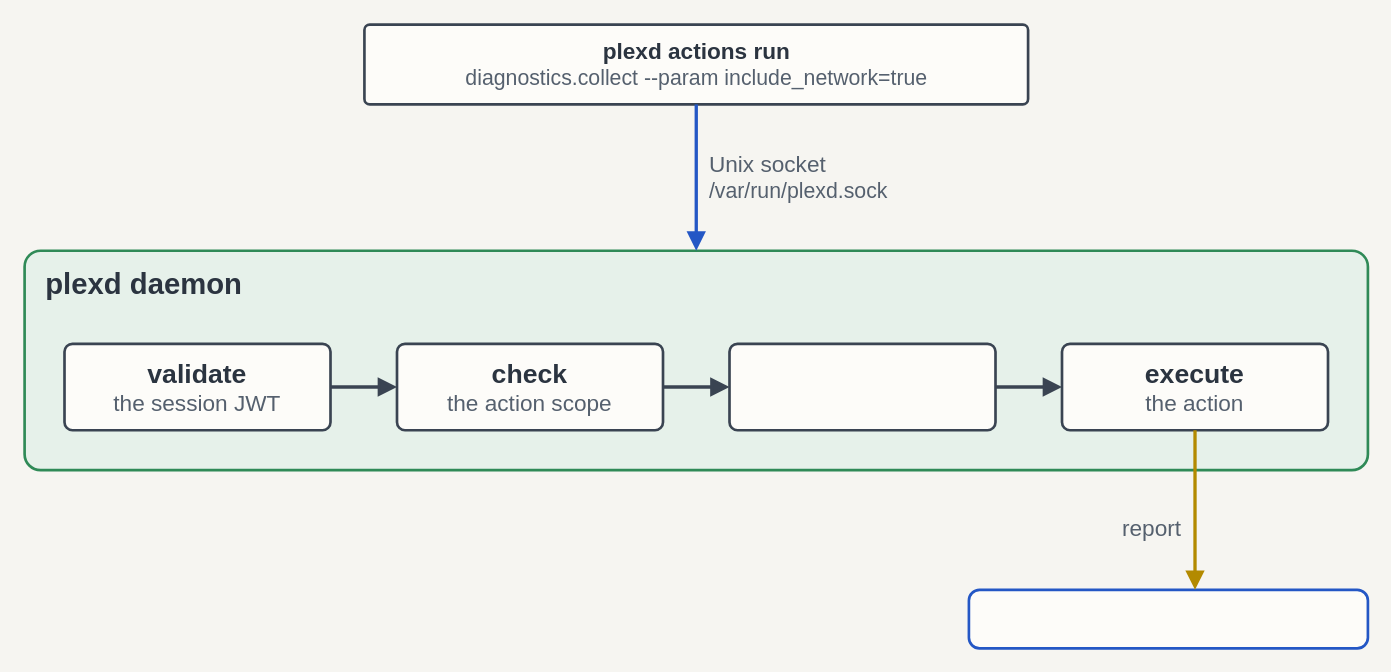
This 1391x672 diagram has some shape labels left out. The centre of each missing label's shape, as x and y in pixels:
control plane: the point at 1168,618
verify the hook integrity: the point at 862,386
